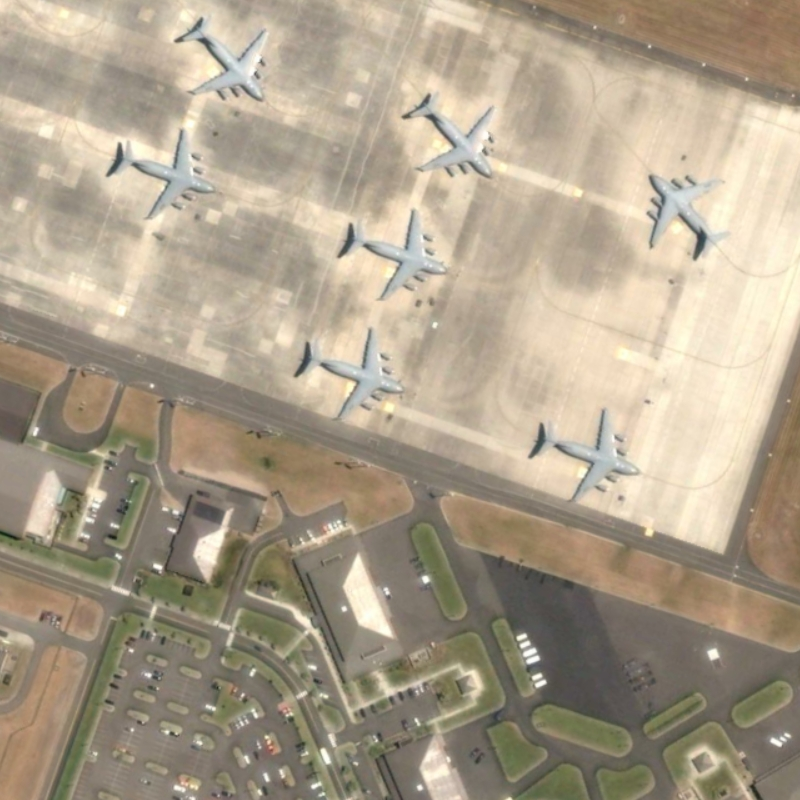A3: (290, 321, 409, 427), (525, 403, 644, 506), (331, 203, 452, 304), (105, 124, 219, 226), (399, 82, 502, 184), (171, 9, 277, 105), (640, 164, 737, 265)
